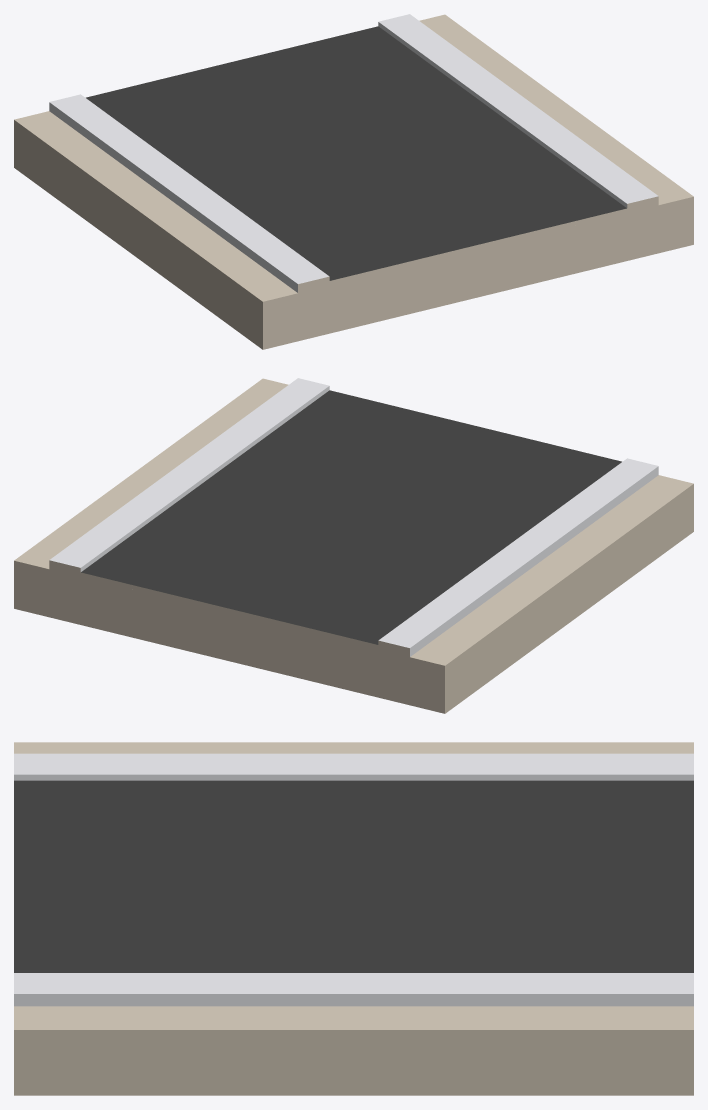
The model's file is roadStraightBridgeMid.obj.
3 views of the same model, one above another, from view 1: azimuth 30°, elevation 25°; view 2: azimuth 150°, elevation 25°; view 3: azimuth 270°, elevation 25° (orthographic). The views are drawn at different scales.
Parts seen in each view (by area): view 1: roadStraightBridgeMid; view 2: roadStraightBridgeMid; view 3: roadStraightBridgeMid.
Boxes of the visible parts, bbox=[...] form: roadStraightBridgeMid: bbox=[14, 14, 693, 349]; roadStraightBridgeMid: bbox=[14, 378, 693, 713]; roadStraightBridgeMid: bbox=[14, 742, 693, 1095].
Bounding box in the file's own units: 1 × 0.1266 × 1.
